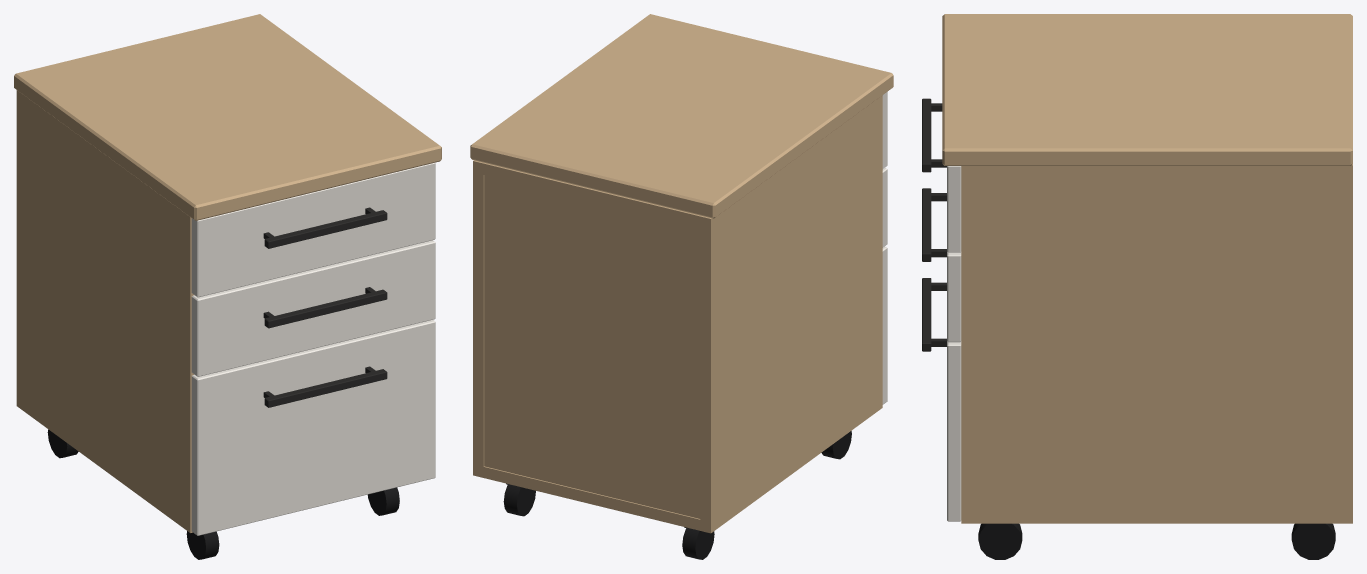
Rendered from 47_kontenerek_40.glb.
3 views of the same model, side by side, from view 1: azimuth 30°, elevation 25°; view 2: azimuth 150°, elevation 25°; view 3: azimuth 270°, elevation 25° (orthographic). The views are drawn at different scales.
Visible parts, largest first — view 1: Korpus, Wierzch, Front_szuflada_3, Front_szuflada_2, Front_szuflada_1, Uchwyty, Kolka; view 2: Korpus, Wierzch, Kolka, Front_szuflada_3; view 3: Korpus, Wierzch, Uchwyty, Kolka, Front_szuflada_3, Front_szuflada_2, Front_szuflada_1.
Boxes of the visible parts, x1,y1,x2,y2 form: Korpus: [16, 90, 194, 532]; Wierzch: [14, 14, 441, 220]; Front_szuflada_3: [191, 319, 435, 535]; Front_szuflada_2: [191, 240, 435, 376]; Front_szuflada_1: [191, 162, 435, 297]; Uchwyty: [263, 207, 387, 407]; Kolka: [47, 429, 399, 559]; Korpus: [473, 95, 882, 533]; Wierzch: [470, 14, 893, 218]; Kolka: [503, 431, 851, 559]; Front_szuflada_3: [882, 246, 887, 404]; Korpus: [961, 164, 1352, 523]; Wierzch: [942, 14, 1352, 165]; Uchwyty: [922, 98, 946, 351]; Kolka: [978, 523, 1335, 559]; Front_szuflada_3: [947, 341, 961, 521]; Front_szuflada_2: [947, 252, 961, 342]; Front_szuflada_1: [947, 166, 961, 252].
Bounding box in the file's own units: 0.412 × 0.5993 × 0.55.
